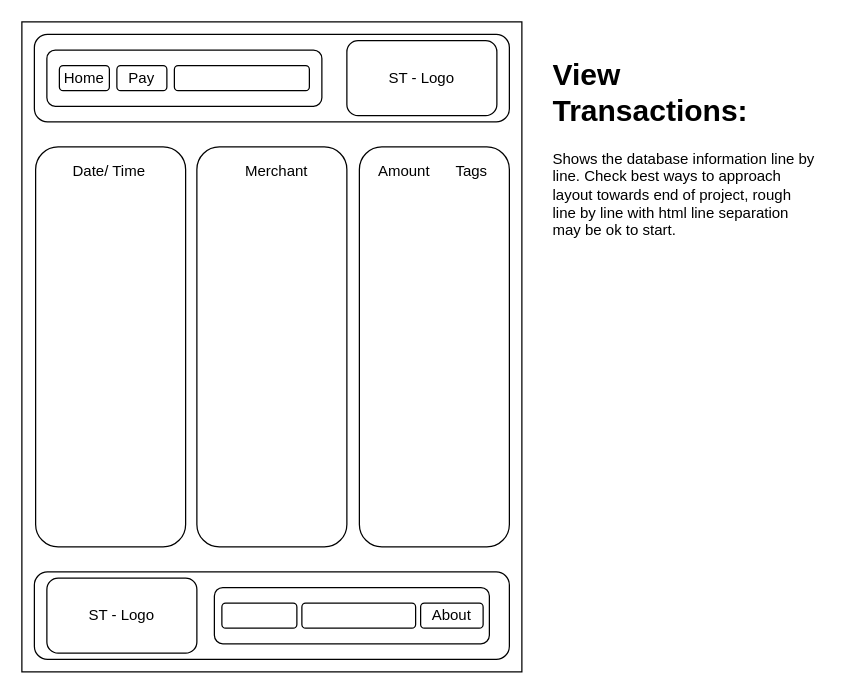
This 844x694 diagram has some shape labels left out. The shapes that lost their labels are listed below. From the top down, each one's centre as x and y in pixels, then its label:
At point 241,77: "View Transations".
At point 259,615: "Edit Tags".
At point 358,615: "Edit Merchants".
